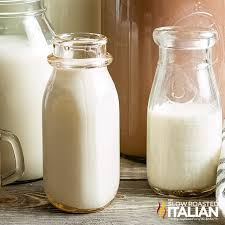milk: (50, 28, 127, 207), (153, 24, 222, 192)
